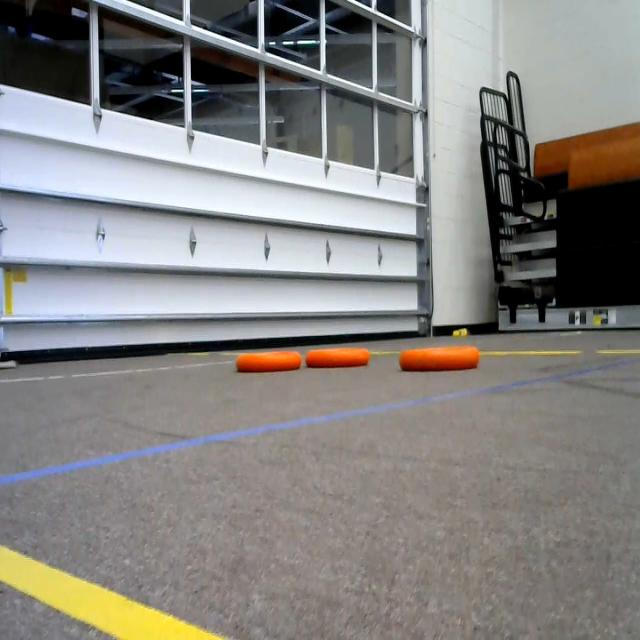note: (229, 331, 301, 386), (396, 341, 483, 377), (307, 336, 375, 376)
